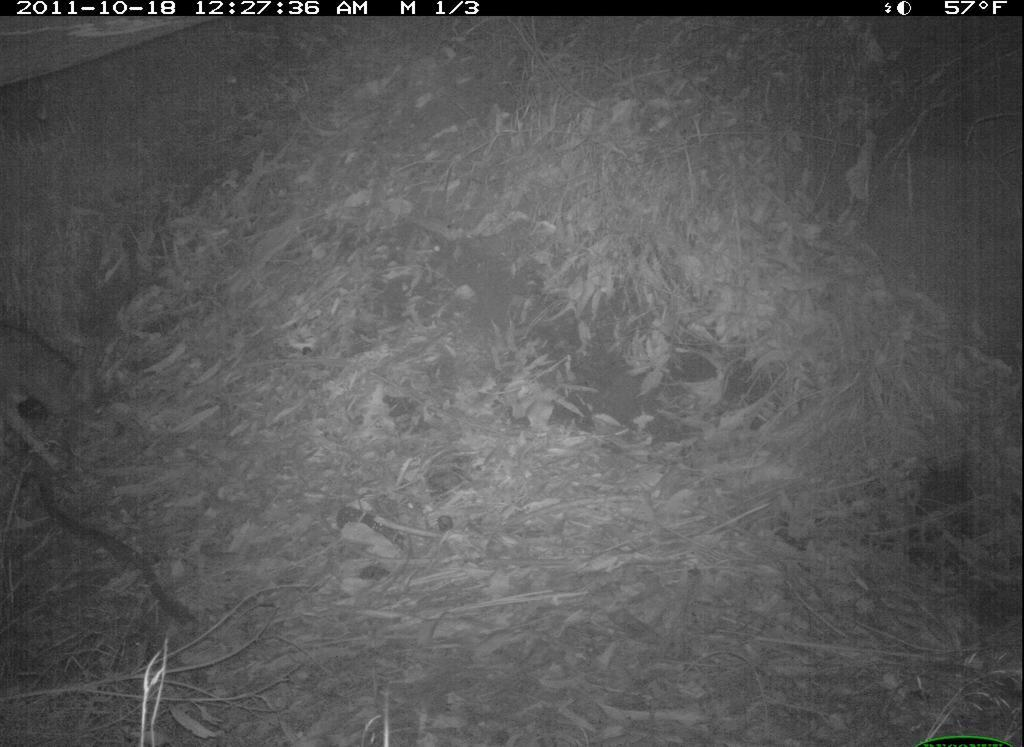coyote: (1, 322, 137, 482)
